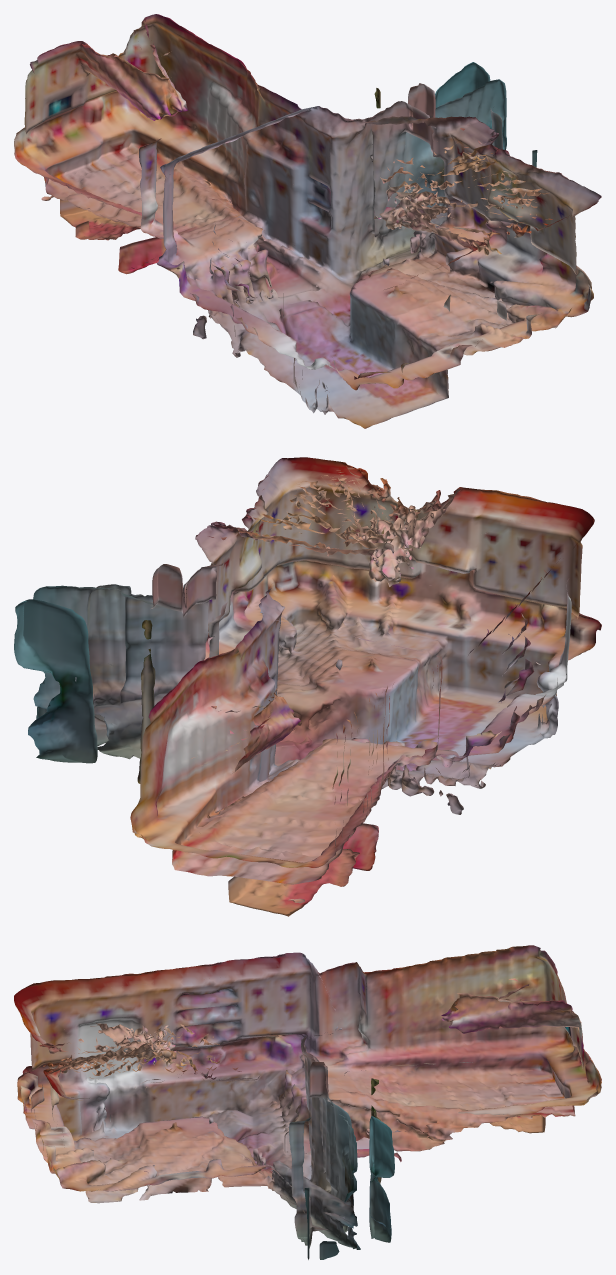
The model's file is jewel-princess-kitchen-1-1_collider.glb.
3 views of the same model, one above another, from view 1: azimuth 30°, elevation 25°; view 2: azimuth 150°, elevation 25°; view 3: azimuth 270°, elevation 25° (orthographic). The views are drawn at different scales.
Visible parts, largest first — view 1: world; view 2: world; view 3: world.
Boxes of the visible parts, x1,y1,x2,y2 form: world: [14, 14, 601, 428]; world: [14, 457, 601, 916]; world: [14, 945, 601, 1259].
Bounding box in the file's own units: 6.88 × 3.19 × 10.02.
